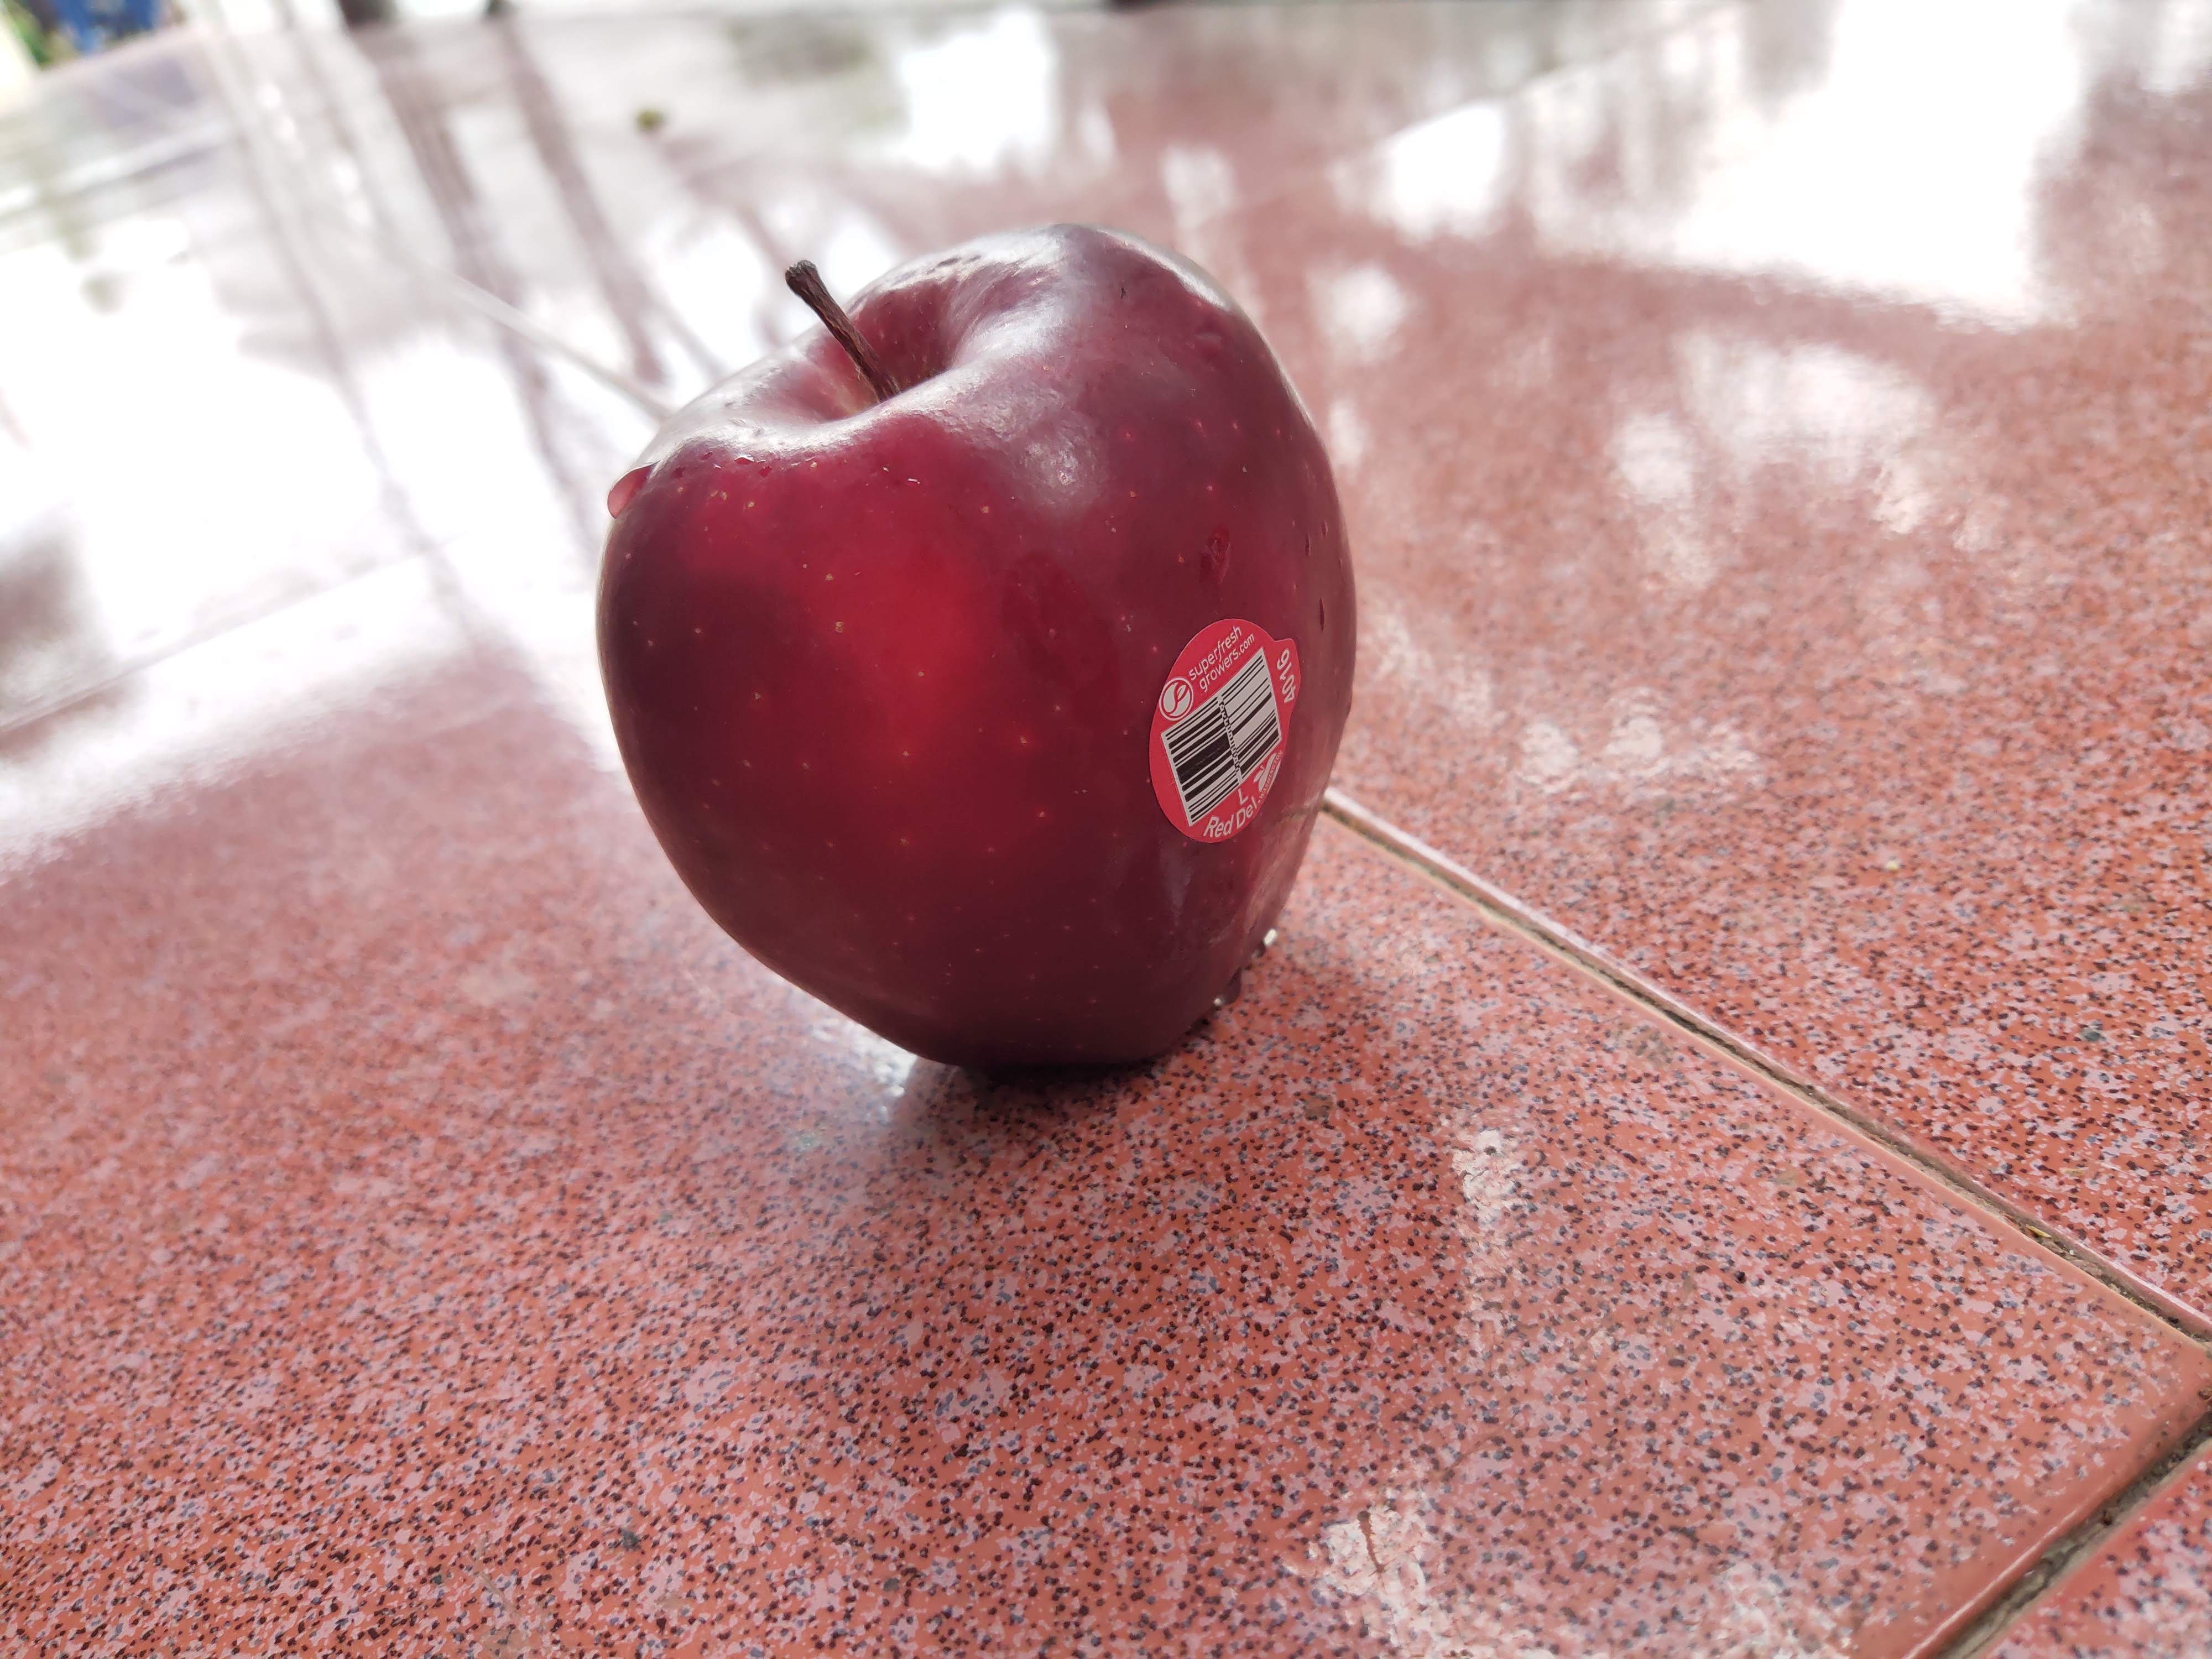apple: (589, 211, 1372, 1089)
